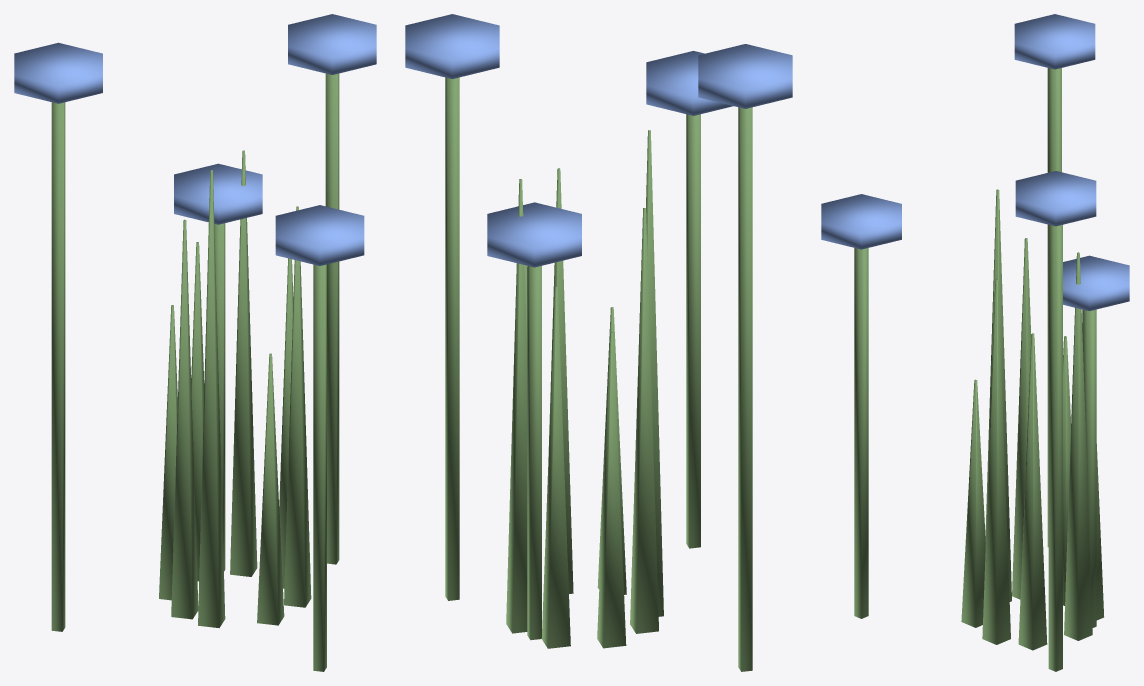
The model's file is wildflower_tuft_1.glb.
3 views of the same model, side by side, from view 1: azimuth 30°, elevation 25°; view 2: azimuth 150°, elevation 25°; view 3: azimuth 270°, elevation 25° (orthographic). The views are drawn at different scales.
Visible parts, largest first — view 1: wildflower_tuft_1; view 2: wildflower_tuft_1; view 3: wildflower_tuft_1.
Part boxes in pixels (x1,y1,x2,y2): wildflower_tuft_1: (14, 14, 376, 671); wildflower_tuft_1: (405, 14, 792, 671); wildflower_tuft_1: (821, 14, 1129, 671).
Size of the model in its own units: 0.5321 by 0.7907 by 0.4307.
